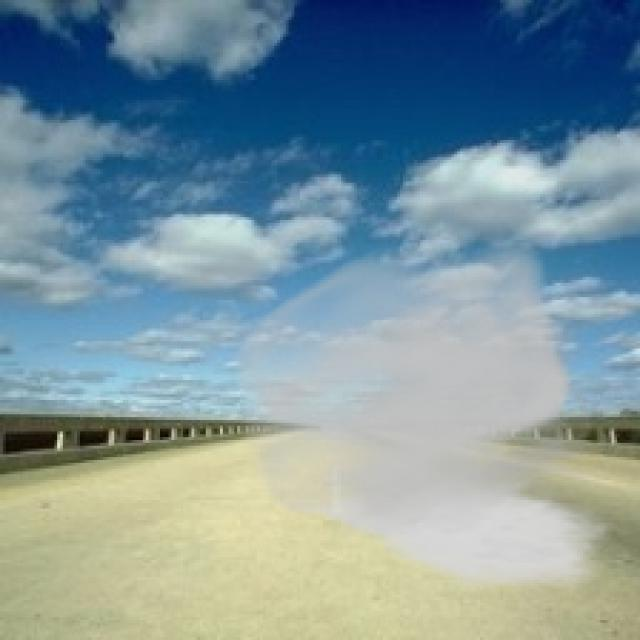Smoke: (222, 240, 618, 594)
